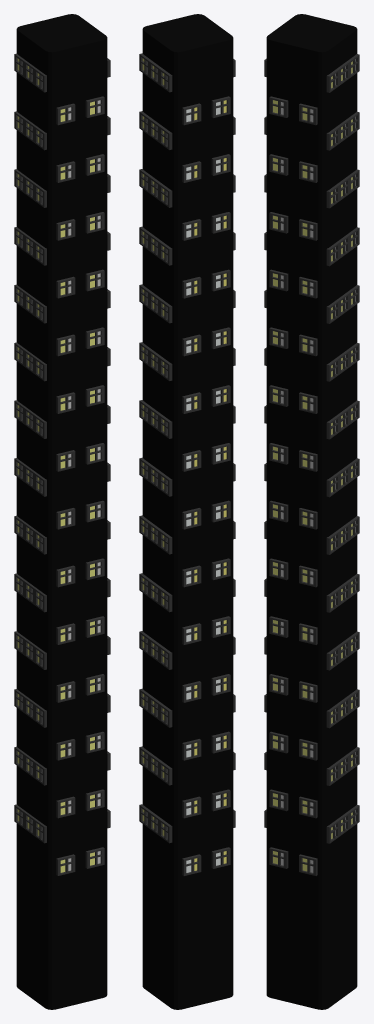
File: Platform_Skyscraper1.2.fbx
The picture shows the model from 3 angles, left to right: view 1: azimuth 30°, elevation 25°; view 2: azimuth 210°, elevation 25°; view 3: azimuth 330°, elevation 25°; orthographic projection.
Visible parts, largest first — view 1: Building, Windows; view 2: Building, Windows; view 3: Building, Windows.
Part boxes in pixels (x1,y1,x2,y2): Building: (16, 14, 107, 1009); Windows: (14, 53, 110, 875); Building: (142, 14, 233, 1009); Windows: (139, 53, 235, 875); Building: (266, 14, 357, 1009); Windows: (264, 54, 359, 875).
Size of the model in its own units: 216 by 3000 by 218.
